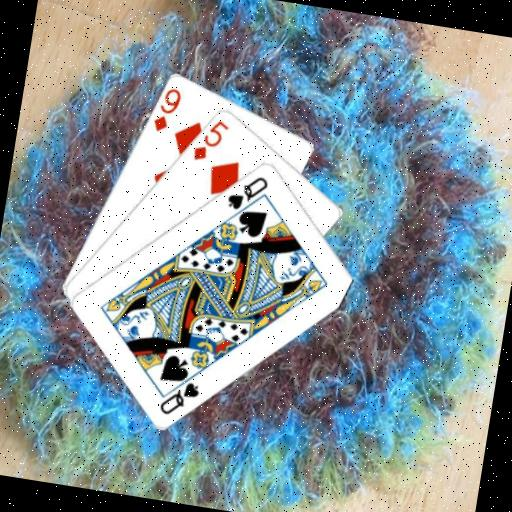5D: (189, 113, 231, 165)
9D: (149, 82, 184, 135)
QS: (223, 168, 271, 215), (155, 374, 202, 420)
